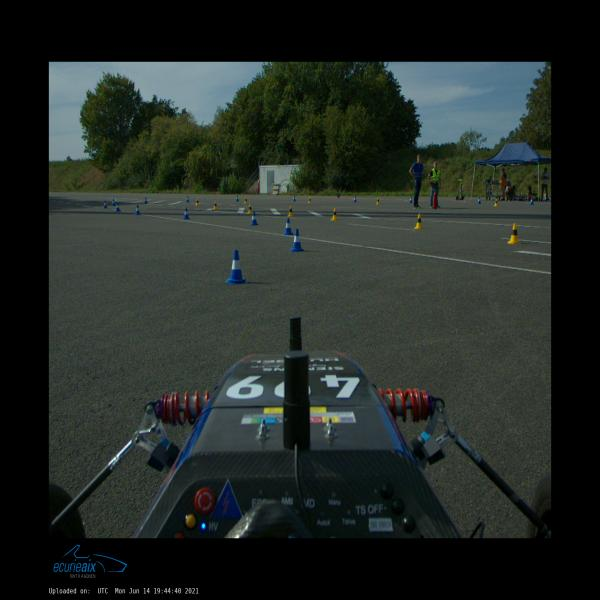blue_cone: (225, 250, 248, 284), (290, 229, 304, 252), (284, 218, 294, 235), (250, 212, 259, 225), (183, 208, 190, 219), (115, 202, 121, 212), (135, 205, 141, 215), (103, 200, 108, 208), (478, 197, 482, 204), (144, 197, 148, 204), (530, 198, 534, 205), (112, 199, 116, 206), (292, 196, 296, 202), (186, 196, 190, 202), (354, 196, 358, 202), (410, 197, 413, 203), (236, 196, 239, 201)
yellow_cone: (507, 223, 521, 244), (414, 214, 424, 229), (331, 208, 339, 221), (288, 206, 294, 216), (247, 204, 253, 213), (213, 200, 218, 210), (195, 198, 200, 206), (494, 199, 499, 206), (244, 197, 248, 204), (308, 197, 312, 203), (376, 198, 380, 204)
